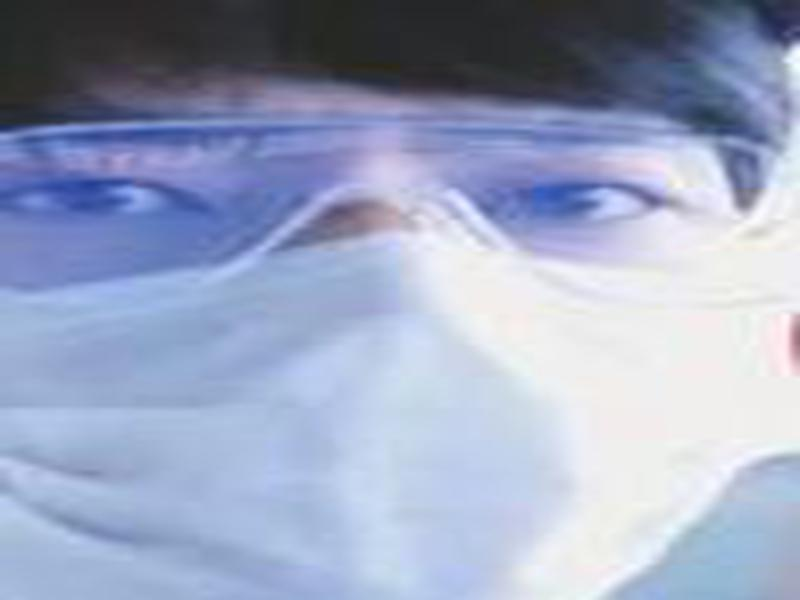with_mask: (1, 85, 798, 600)
